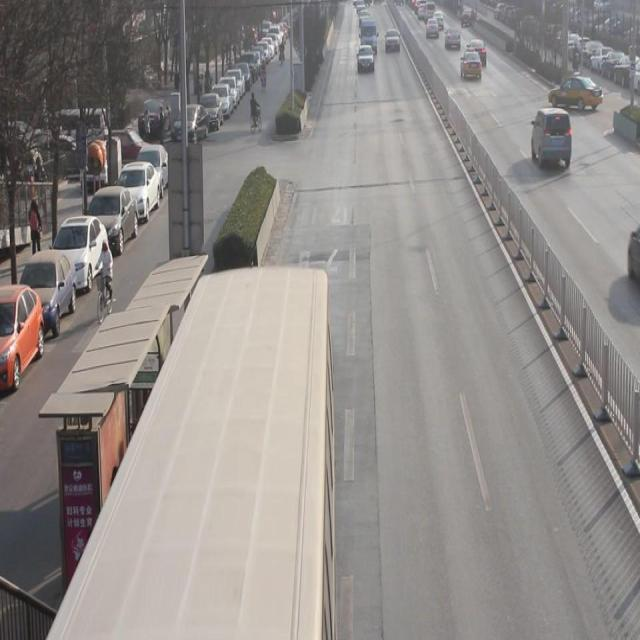bus: (359, 16, 378, 50)
car: (531, 105, 573, 171), (548, 68, 603, 112), (460, 45, 482, 81), (467, 37, 487, 66), (356, 43, 375, 72), (384, 27, 401, 52), (461, 1, 476, 26), (445, 24, 460, 47), (425, 14, 439, 38), (434, 9, 444, 28)
van: (45, 264, 334, 640)
